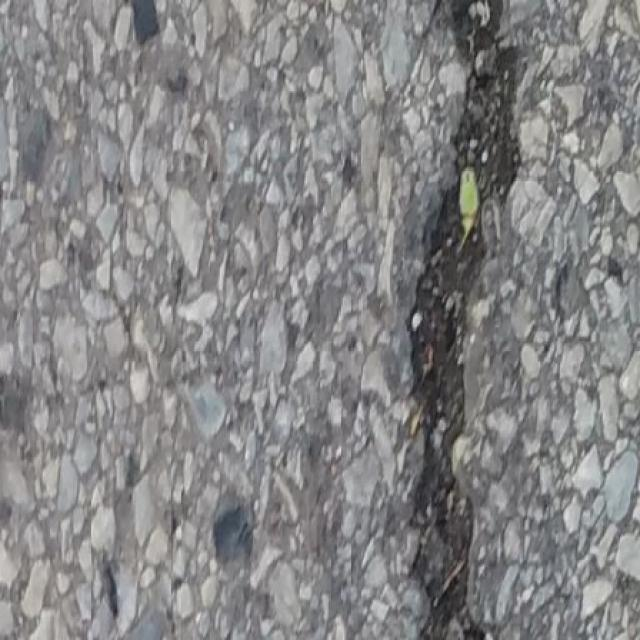vertical crack: (400, 7, 537, 635)
